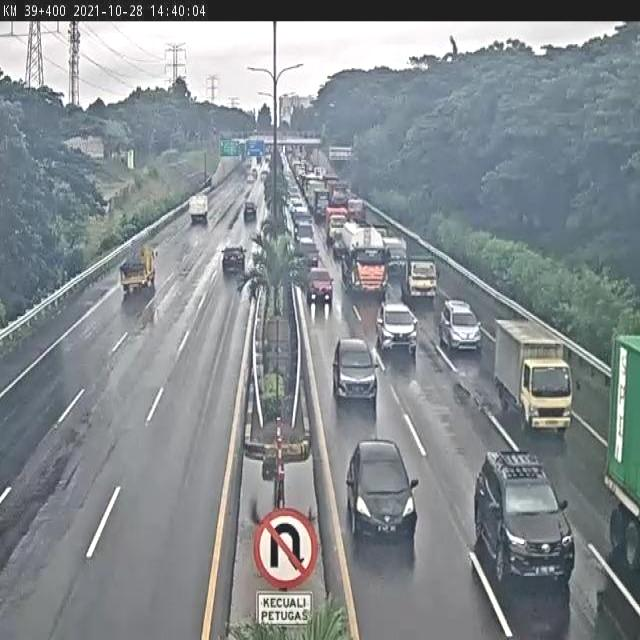Car: (475, 450, 574, 587), (341, 418, 427, 560), (332, 336, 378, 407), (375, 301, 419, 357), (306, 266, 333, 307), (221, 245, 246, 274), (244, 201, 257, 221)
Truck: (601, 333, 640, 576), (494, 320, 572, 434), (341, 221, 387, 296), (259, 310, 292, 388), (259, 433, 310, 482), (440, 300, 482, 353), (286, 276, 306, 382), (120, 244, 157, 296), (346, 141, 378, 195), (405, 259, 439, 302), (258, 372, 286, 420), (381, 236, 408, 284), (296, 227, 319, 268), (324, 204, 348, 240), (233, 265, 260, 296), (290, 209, 312, 246), (282, 200, 299, 246), (140, 293, 162, 328), (333, 227, 352, 266), (188, 194, 209, 224), (281, 156, 296, 198), (289, 252, 309, 283), (313, 188, 331, 221), (253, 340, 265, 388), (265, 149, 285, 177), (267, 178, 284, 210), (409, 252, 436, 272), (262, 450, 278, 481), (347, 198, 366, 223), (158, 148, 184, 166), (251, 240, 265, 272), (244, 442, 266, 462), (261, 216, 276, 244), (328, 146, 354, 162), (339, 251, 352, 282), (331, 181, 349, 203), (288, 193, 304, 216), (247, 138, 265, 158), (289, 128, 321, 138), (346, 150, 359, 174), (286, 152, 300, 173), (303, 168, 317, 188), (295, 206, 309, 225), (375, 305, 384, 331), (280, 111, 291, 131), (294, 162, 306, 180), (235, 139, 246, 157), (374, 227, 388, 240), (254, 336, 262, 358), (127, 149, 135, 170), (264, 158, 272, 178), (325, 172, 337, 185), (201, 175, 212, 189), (244, 160, 252, 179), (326, 228, 334, 247), (313, 166, 325, 178), (265, 144, 275, 158), (247, 169, 256, 184), (90, 152, 104, 161), (219, 137, 228, 150), (260, 168, 268, 182), (285, 145, 294, 157), (242, 134, 250, 146), (278, 139, 290, 147), (264, 154, 271, 167), (281, 146, 288, 158), (104, 202, 110, 216), (120, 153, 126, 165), (251, 129, 259, 137), (155, 249, 158, 257)
